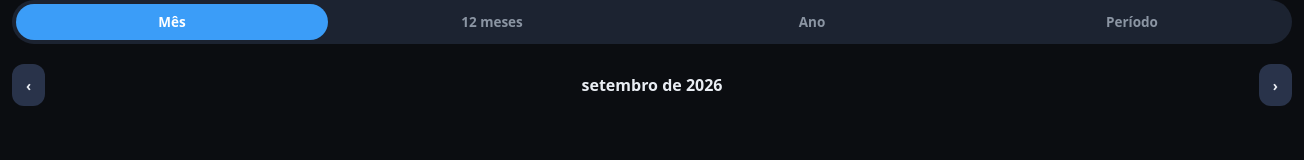
Test: SeletorPeriodo › modo Ano: abre no último ano fechado; o ano de hoje leva "até agora"
Step 1. Click the radio button labelled "Ano" → (812, 22), box [656, 4, 968, 40]
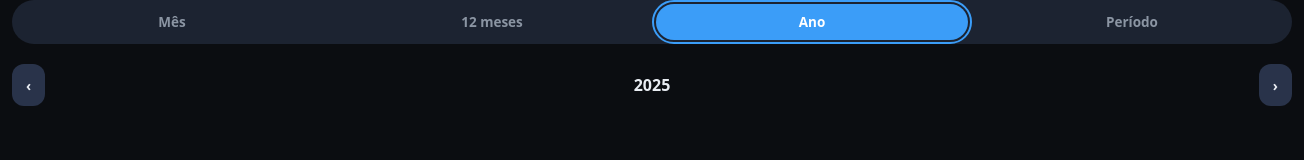
expect the text "até agora" is not shown: met
expect the text "2025" is shown: met, box [634, 74, 670, 96]
Step 2. Click the button named "Ano seguinte" → (1275, 85), box [1259, 64, 1292, 106]
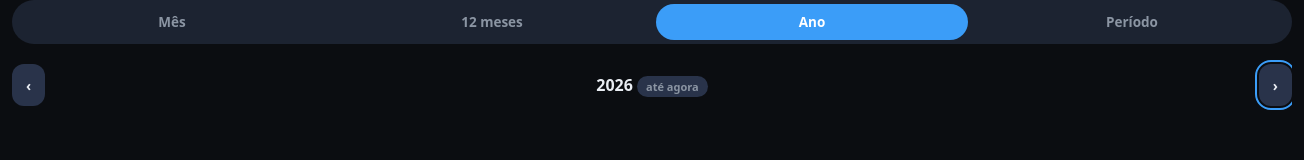
expect the text "2026" is shown: met, box [596, 74, 633, 96]
